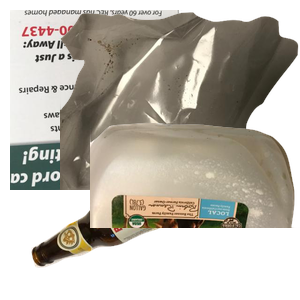glass: (29, 150, 238, 300)
paper: (10, 10, 201, 190)
plastic: (90, 120, 300, 300)
trash: (60, 10, 300, 190)
